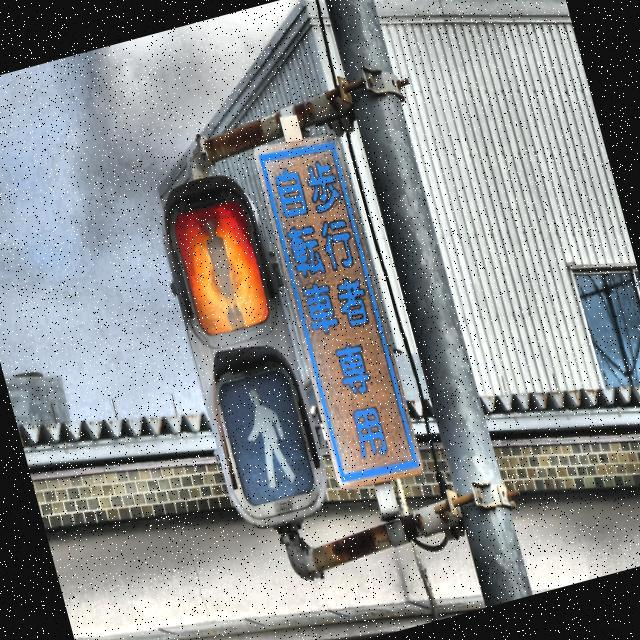red_light: (193, 209, 249, 333)
